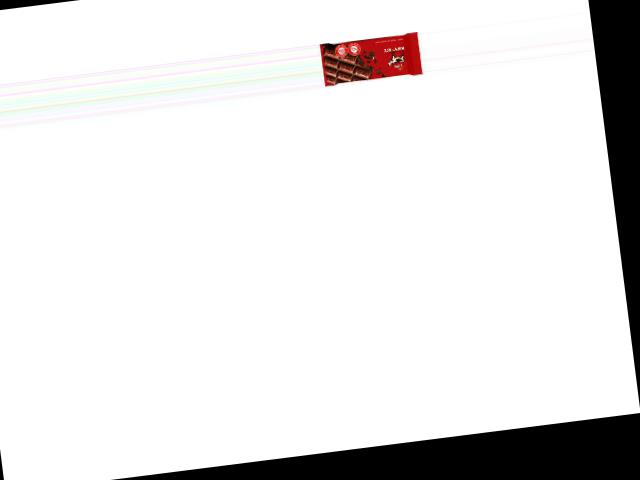chocolate: (319, 31, 424, 86)
